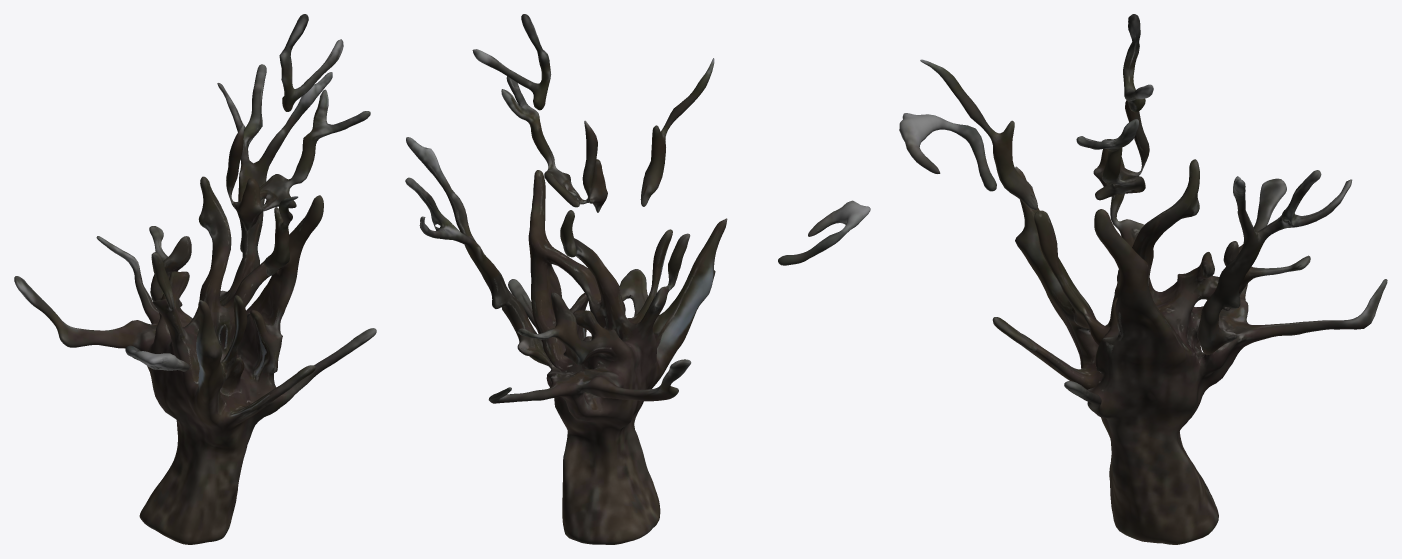
The model's file is koki.glb.
3 views of the same model, side by side, from view 1: azimuth 30°, elevation 25°; view 2: azimuth 150°, elevation 25°; view 3: azimuth 270°, elevation 25° (orthographic). The views are drawn at different scales.
Visible parts, largest first — view 1: mesh; view 2: mesh; view 3: mesh.
Part boxes in pixels (box(x1,y1,x2,y2)): mesh: box(14, 14, 376, 544); mesh: box(405, 14, 870, 544); mesh: box(899, 14, 1387, 544).
Bounding box in the file's own units: 0.6863 × 0.995 × 0.7722.
Materials: 1 (1 with a texture image).
